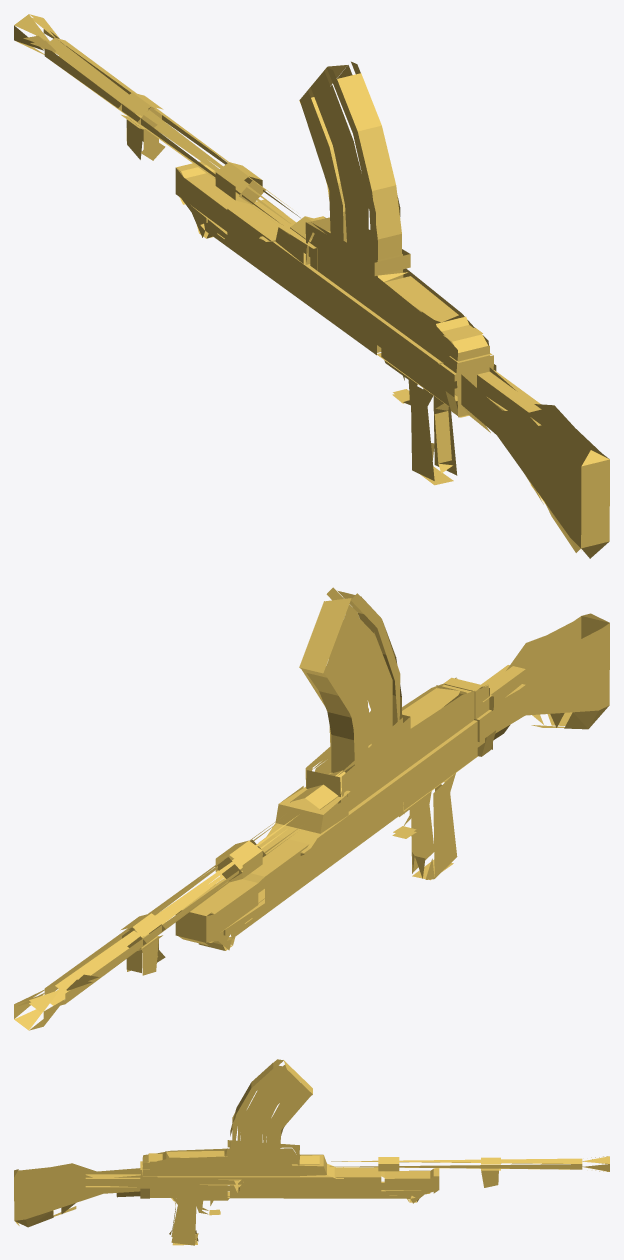
Rendered from charm_mst_lmg_2.glb.
3 views of the same model, one above another, from view 1: azimuth 30°, elevation 25°; view 2: azimuth 150°, elevation 25°; view 3: azimuth 270°, elevation 25° (orthographic). The views are drawn at different scales.
Visible parts, largest first — view 1: p0_paint; view 2: p0_paint; view 3: p0_paint.
Boxes of the visible parts, x1,y1,x2,y2 form: p0_paint: [14, 14, 609, 558]; p0_paint: [14, 587, 609, 1030]; p0_paint: [14, 1059, 609, 1245].
Size of the model in its own units: 0.0996 by 0.3833 by 1.15.
